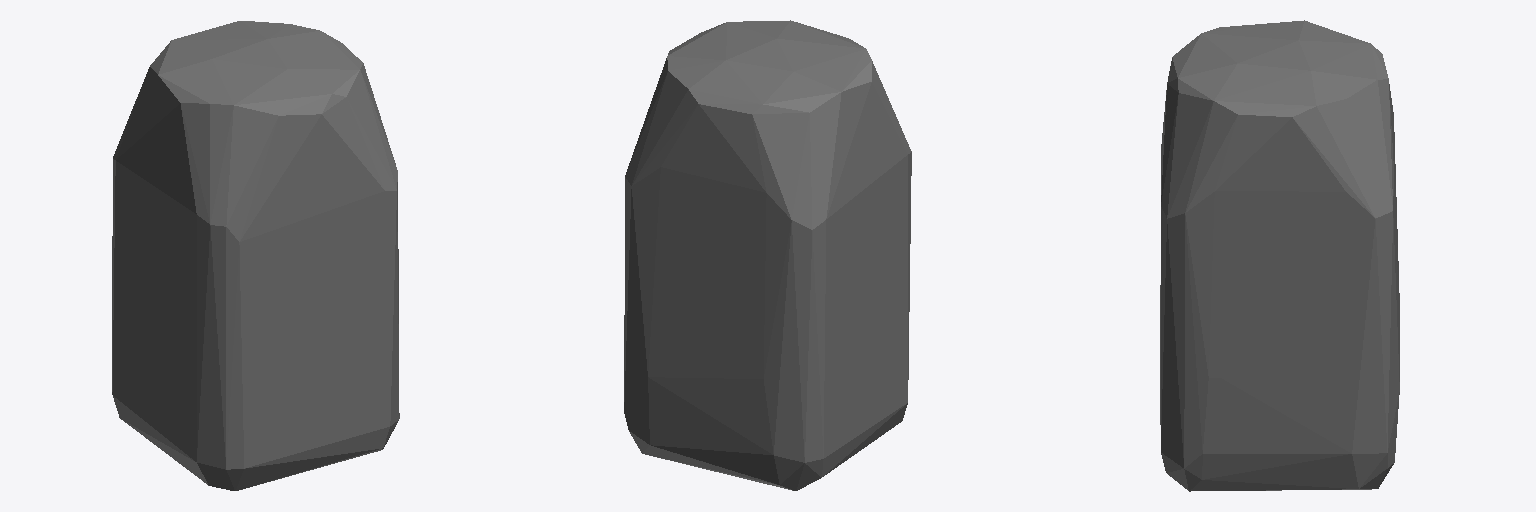
URDF robot description (jar_013):
<?xml version="1.0" ?>
<robot name="jar_013">
  <material name="color">
    <color rgba=".5 .5 .5 1"/>
  </material>

  <link name="base_link">
    <contact>
      <lateral_friction value="1.0"/>
      <rolling_friction value="0.001"/>
      <spinning_friction value="0.001"/>
      <inertia_scaling value="1.0"/>
    </contact>
    <inertial>
      <origin rpy="0 0 0" xyz="-9.38158e-06 -2.9643e-05 -0.00437204"/>
       <mass value="0.1"/>
       <inertia ixx="1" ixy="0" ixz="0" iyy="1" iyz="0" izz="1"/>
    </inertial>

    <visual>
      <origin rpy="0 0 0" xyz="0 0 0"/>
      <geometry>
        <mesh filename="jar_013_vhacd_0_of_1.obj" scale="1 1 1"/>
      </geometry>
      <material name="color"/>
    </visual>

    <collision>
      <origin rpy="0 0 0" xyz="0 0 0"/>
      <geometry>
        <mesh filename="jar_013_vhacd_0_of_1.obj" scale="1 1 1"/>
      </geometry>
    </collision>

  </link>
</robot>

--- Facts derived from the render (not from the file) ---
Views: 3 orthographic renders of the robot side by side, from view 1: azimuth 30°, elevation 25°; view 2: azimuth 150°, elevation 25°; view 3: azimuth 270°, elevation 25°.
Model jar_013 with 1 links and 0 joints (none), rooted at base_link, posed every joint at zero.
Visible links, largest first — view 1: base_link; view 2: base_link; view 3: base_link.
Link boxes in pixels (left/top/right/bottom): base_link: left=112, top=21, right=399, bottom=490; base_link: left=624, top=20, right=911, bottom=490; base_link: left=1160, top=20, right=1399, bottom=491.
Bounding box of the posed robot: 0.116 × 0.1161 × 0.2101 m (x, y, z).
Meshes: 1 distinct files referenced, 1 mesh visuals loaded (1 OBJ).